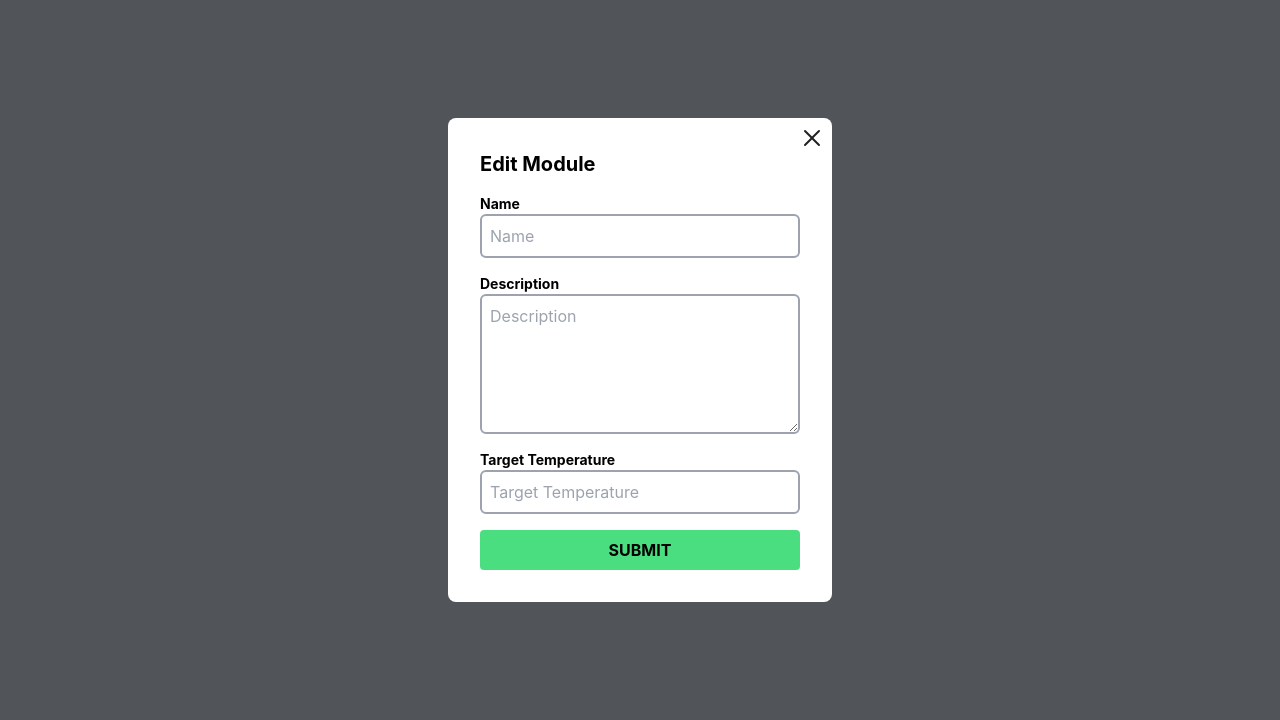
Test: Modal Component › displays validation error when submitting an empty form
Click the button "Submit": (640, 550) [480,530,800,570]
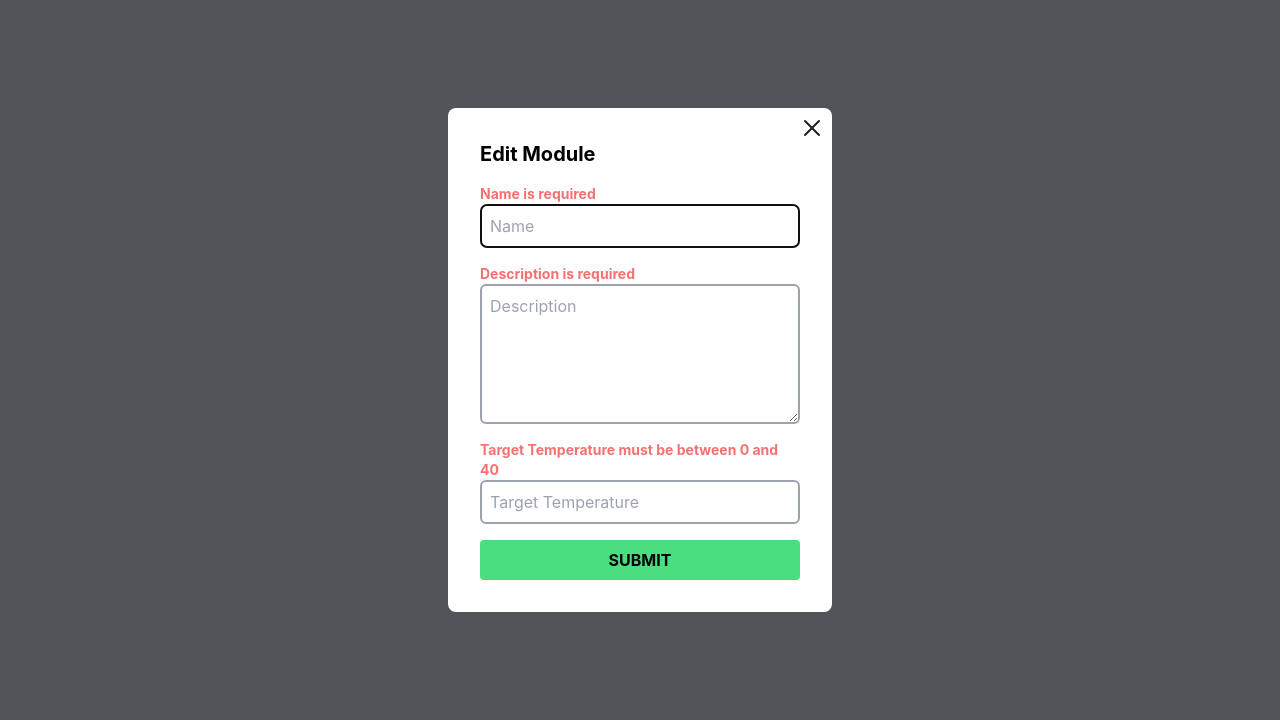
expect the text "Name is required" is shown: met, box [480,185,596,202]
expect the text "Description is required" is shown: met, box [480,265,635,282]
expect the text "Target Temperature must be between 0 and 40" is shown: met, box [480,440,800,480]
